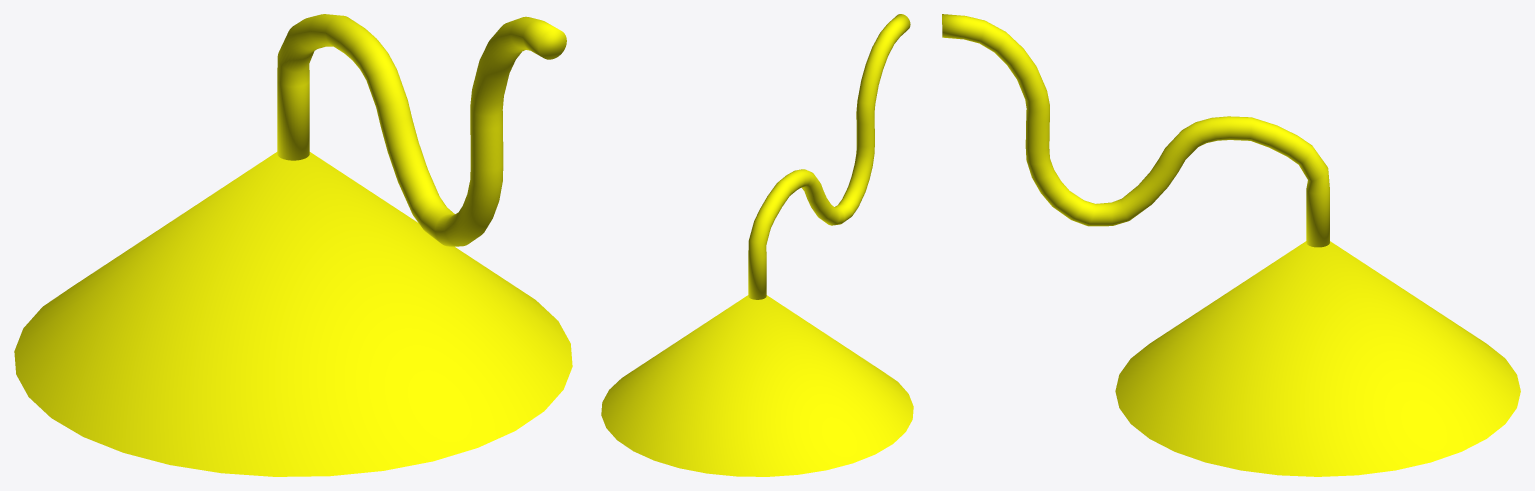
File: light fixture.fbx
The picture shows the model from 3 angles, left to right: view 1: azimuth 30°, elevation 25°; view 2: azimuth 150°, elevation 25°; view 3: azimuth 270°, elevation 25°; orthographic projection. The views are drawn at different scales.
Visible parts, largest first — view 1: Cylinder; view 2: Cylinder; view 3: Cylinder.
Part boxes in pixels (<box>): Cylinder: <box>14,14,572,476</box>; Cylinder: <box>601,14,913,476</box>; Cylinder: <box>942,14,1520,476</box>.
Size of the model in its own units: 391 by 401 by 559.
